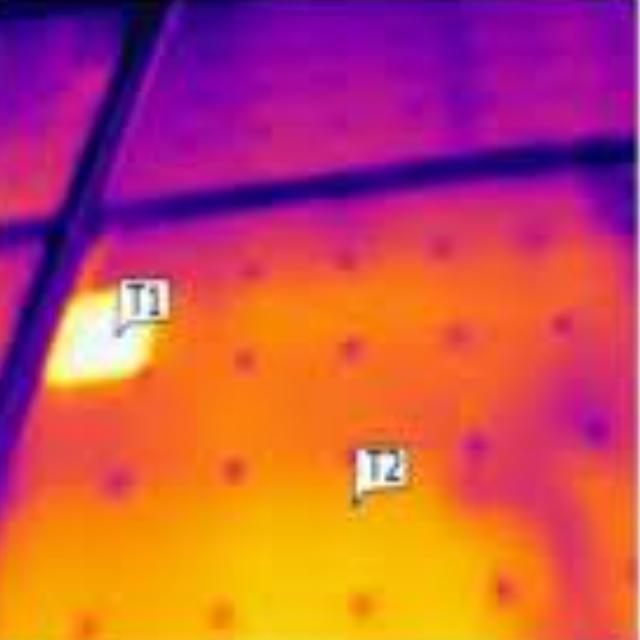hotspot group: (42, 263, 183, 404)
